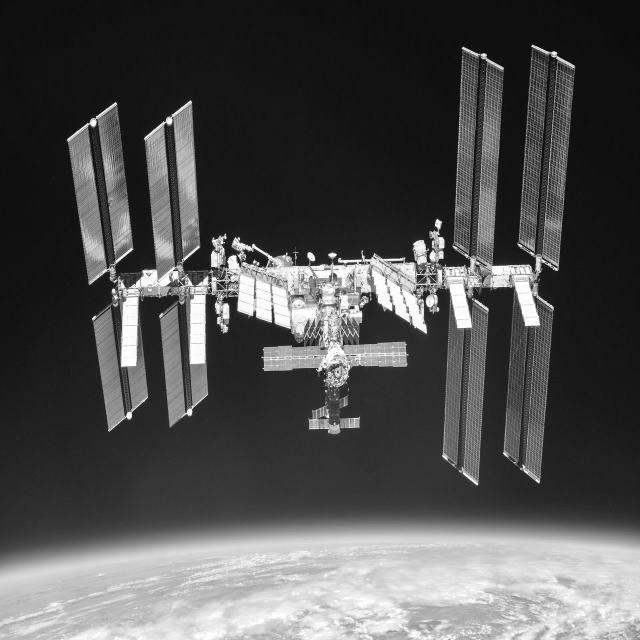satellite: (68, 47, 575, 484)
